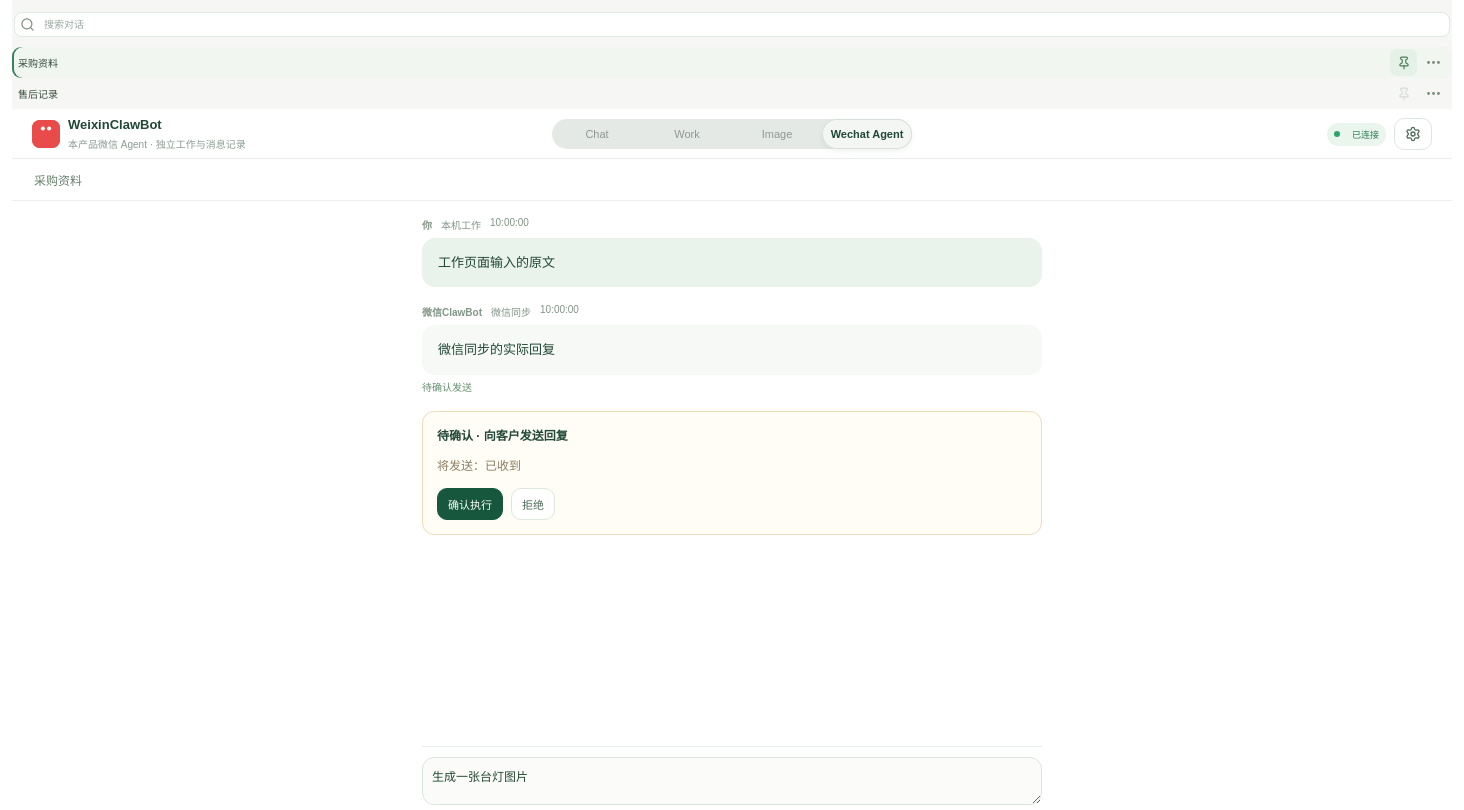
Test: single canonical WeChat Agent › keeps pending external sends unconfirmed and ignores actions from another conversation
Expected: the text "待确认发送" is shown, [422,382,472,393]
Click the button "拒绝" at (533, 504), box [511,488,555,520]
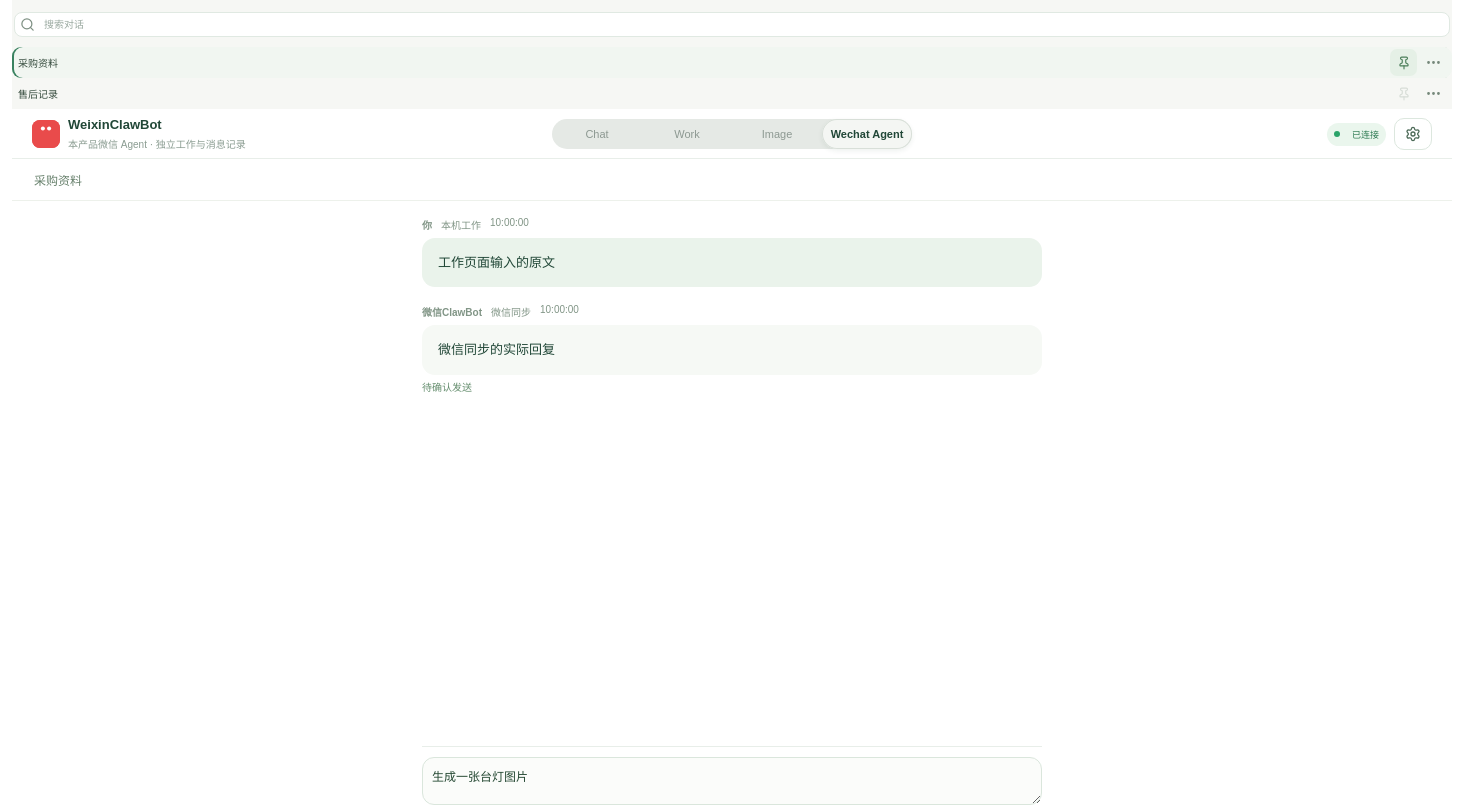
Result: the element "待确认：向客户发送回复" is gone
